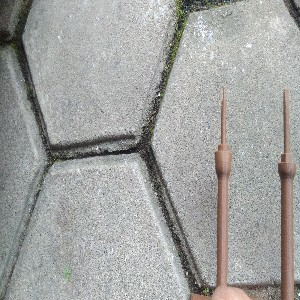obeng: (278, 88, 297, 300)
solder: (214, 86, 233, 300)
